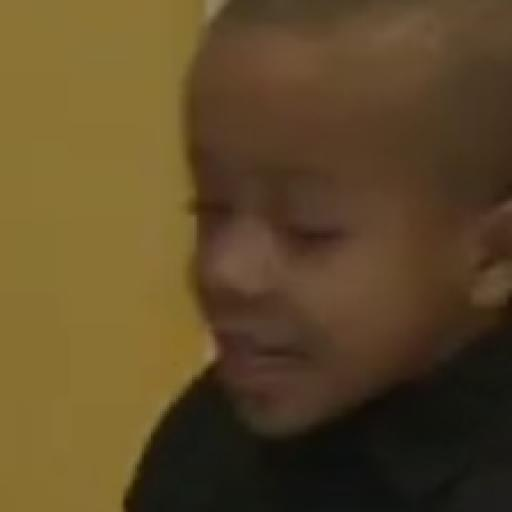Autism: (200, 13, 512, 424)
